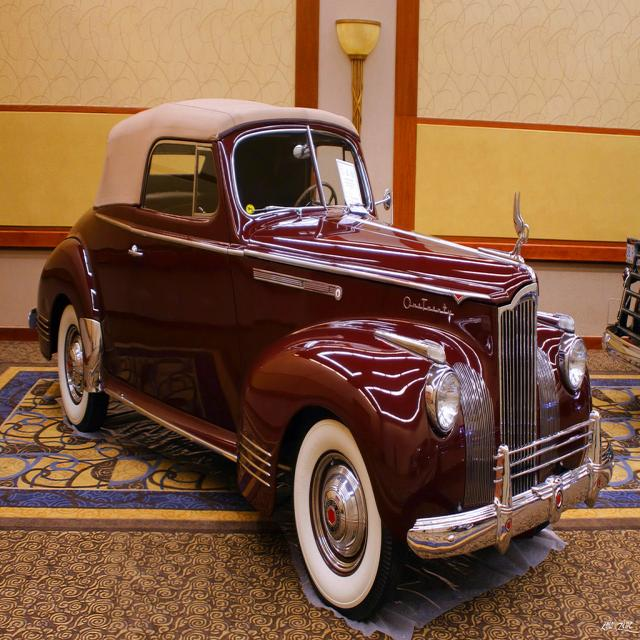other: (30, 107, 581, 602)
